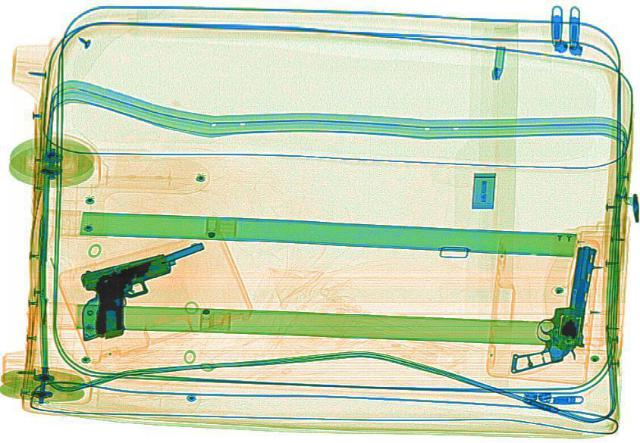Gun: (65, 240, 238, 336), (508, 244, 594, 370)
